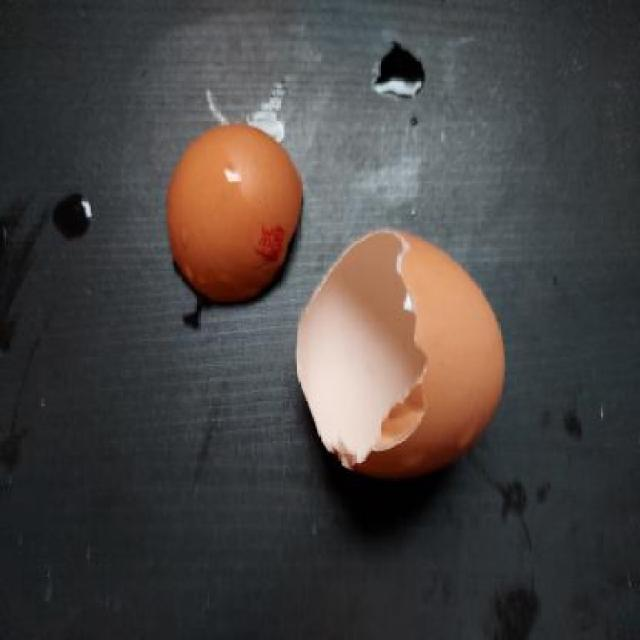biodegradable: (294, 222, 506, 487), (162, 115, 304, 312)
